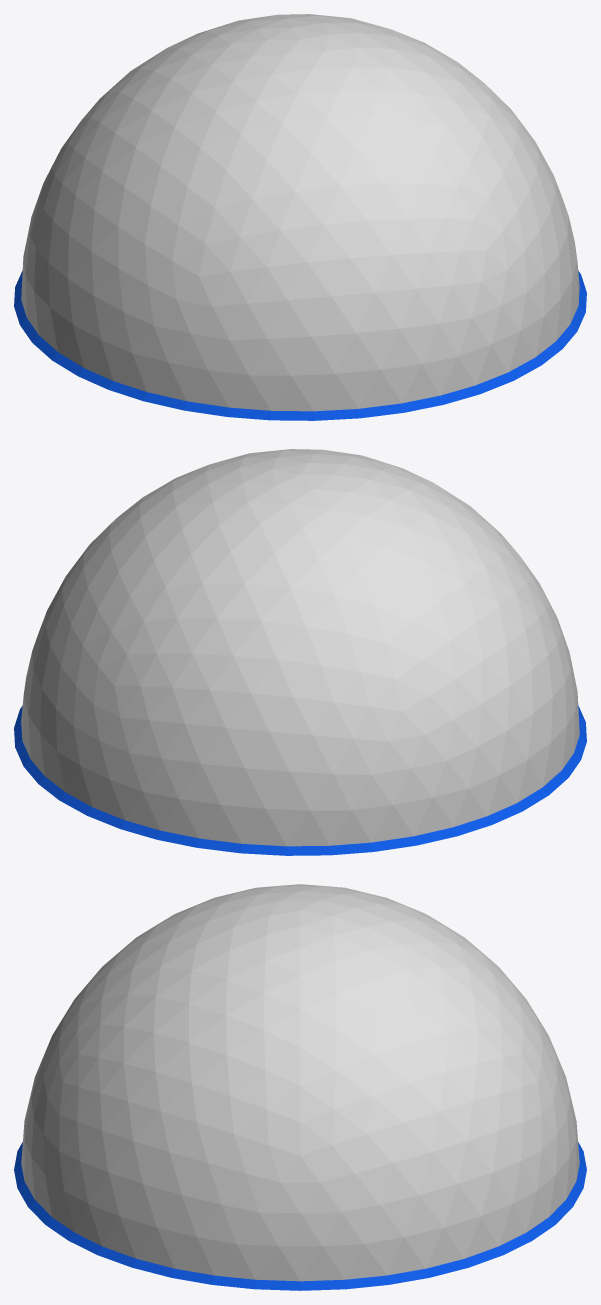
The model's file is LargeDome.fbx.
3 views of the same model, one above another, from view 1: azimuth 30°, elevation 25°; view 2: azimuth 150°, elevation 25°; view 3: azimuth 270°, elevation 25° (orthographic).
Parts seen in each view (by area): view 1: LargeDome; view 2: LargeDome; view 3: LargeDome.
Boxes of the visible parts, bbox=[...] form: LargeDome: bbox=[14, 14, 586, 420]; LargeDome: bbox=[14, 449, 586, 855]; LargeDome: bbox=[14, 884, 586, 1290].
Bounding box in the file's own units: 821 × 410 × 821.
